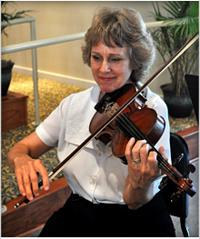person: (8, 7, 177, 237)
